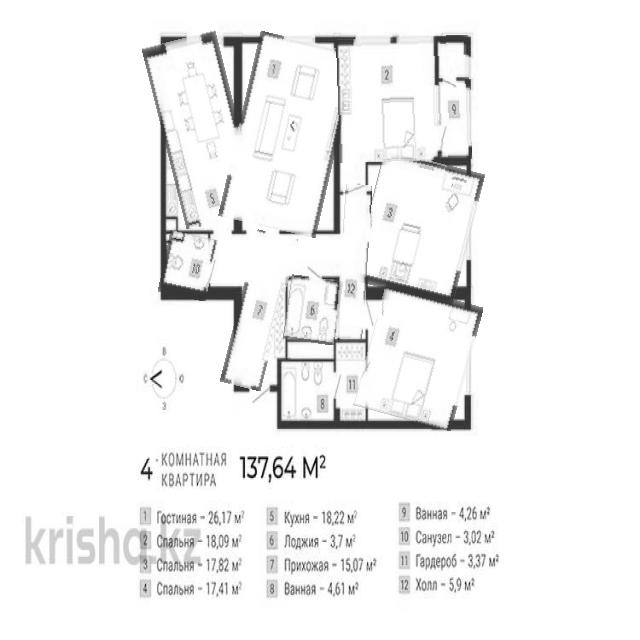bathroom: (285, 275, 341, 344), (160, 232, 215, 299), (278, 363, 335, 424)
hallway: (229, 231, 289, 390), (337, 185, 370, 339)
kitchen: (153, 33, 249, 226)
living_room: (228, 36, 348, 234), (360, 155, 478, 300), (337, 36, 471, 162), (361, 288, 476, 426)
